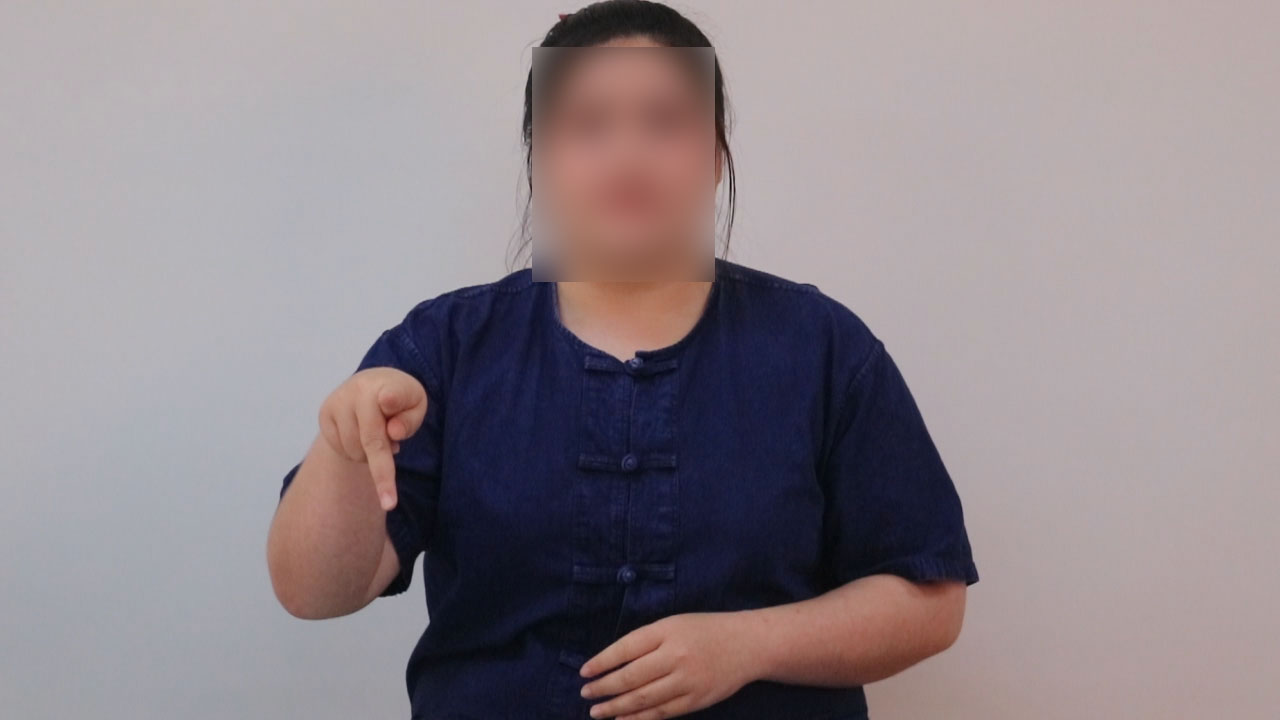por: (316, 355, 433, 528)
